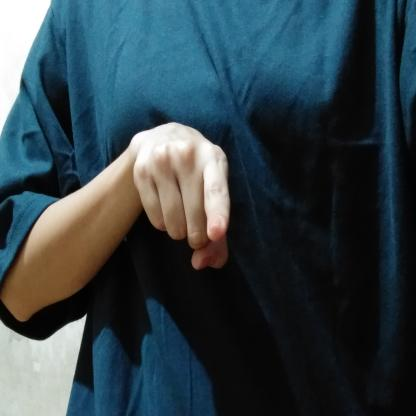you: (125, 116, 239, 282)
